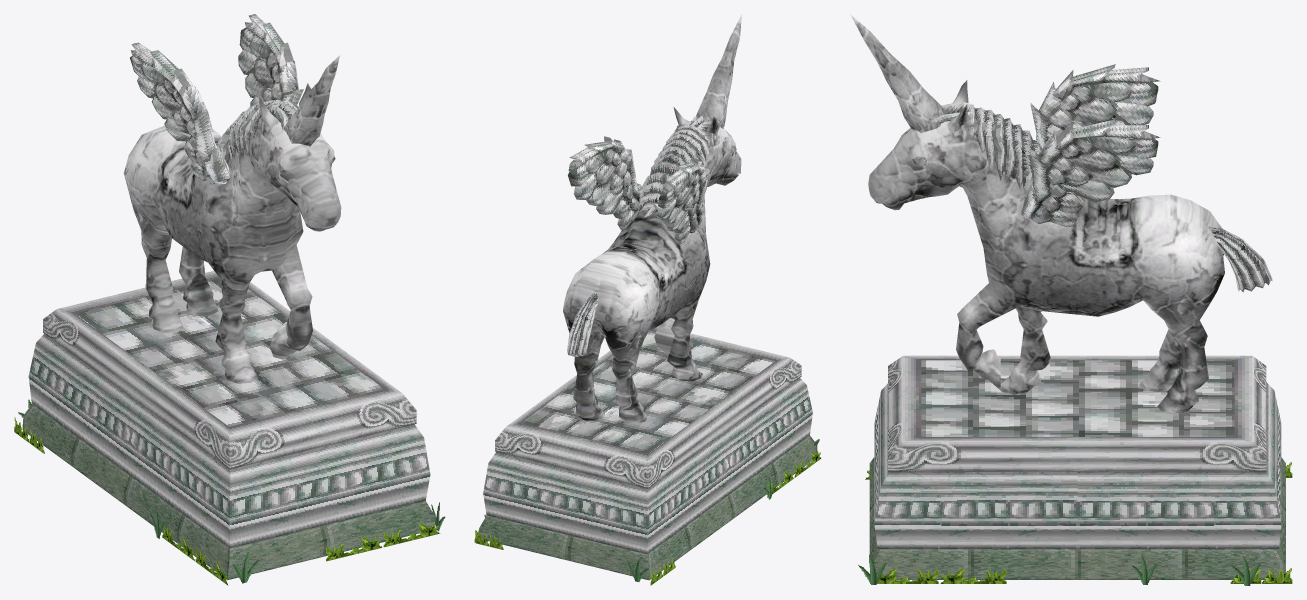
The model's file is o_uma1.glb.
3 views of the same model, side by side, from view 1: azimuth 30°, elevation 25°; view 2: azimuth 150°, elevation 25°; view 3: azimuth 270°, elevation 25° (orthographic). The views are drawn at different scales.
Parts seen in each view (by area): view 1: o_uma1; view 2: o_uma1; view 3: o_uma1.
Part boxes in pixels (left/top/right/bottom): o_uma1: left=14, top=14, right=445, bottom=585; o_uma1: left=474, top=14, right=821, bottom=585; o_uma1: left=850, top=14, right=1292, bottom=585.
Size of the model in its own units: 223 by 496 by 385.
Materials: 11 (11 with a texture image).
